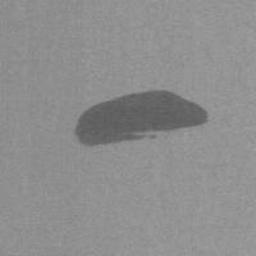Oil spot: (74, 90, 210, 147)
